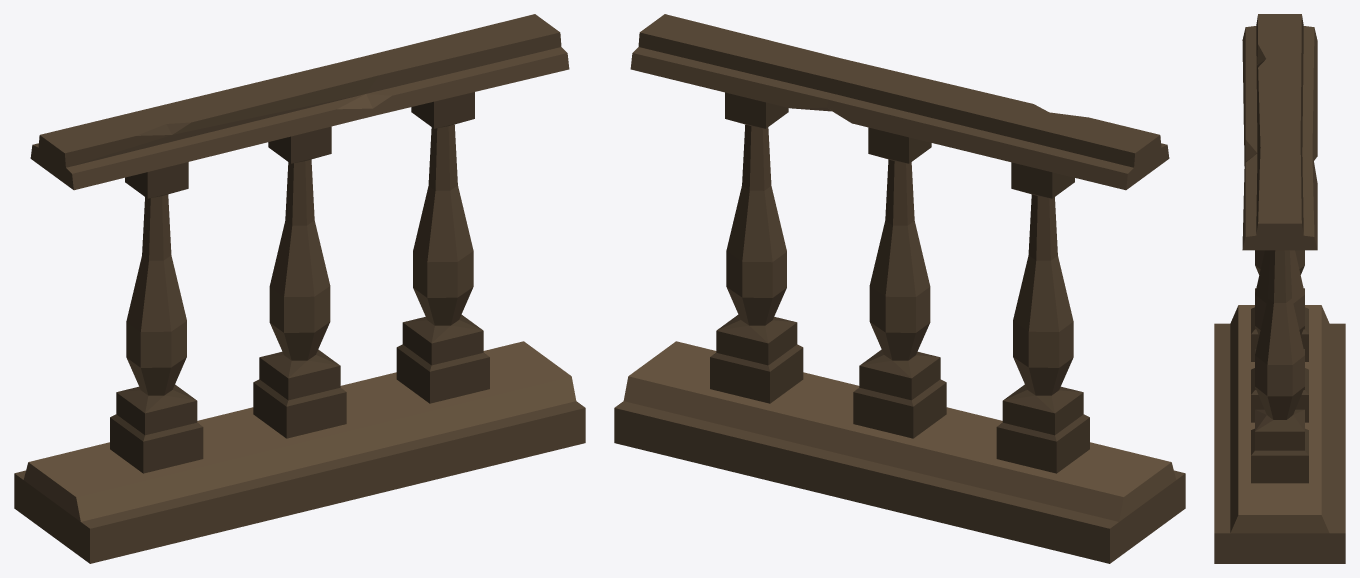
The model's file is SM_Bld_Railing_Half_01.fbx.
3 views of the same model, side by side, from view 1: azimuth 30°, elevation 25°; view 2: azimuth 150°, elevation 25°; view 3: azimuth 270°, elevation 25° (orthographic). The views are drawn at different scales.
Visible parts, largest first — view 1: SM_Bld_Railing_Half_01; view 2: SM_Bld_Railing_Half_01; view 3: SM_Bld_Railing_Half_01.
Boxes of the visible parts, x1,y1,x2,y2 form: SM_Bld_Railing_Half_01: (14,14,585,563); SM_Bld_Railing_Half_01: (614,14,1185,563); SM_Bld_Railing_Half_01: (1214,14,1345,563).
Size of the model in its own units: 125 by 94.51 by 33.14.
Materials: 1 (1 with a texture image).
